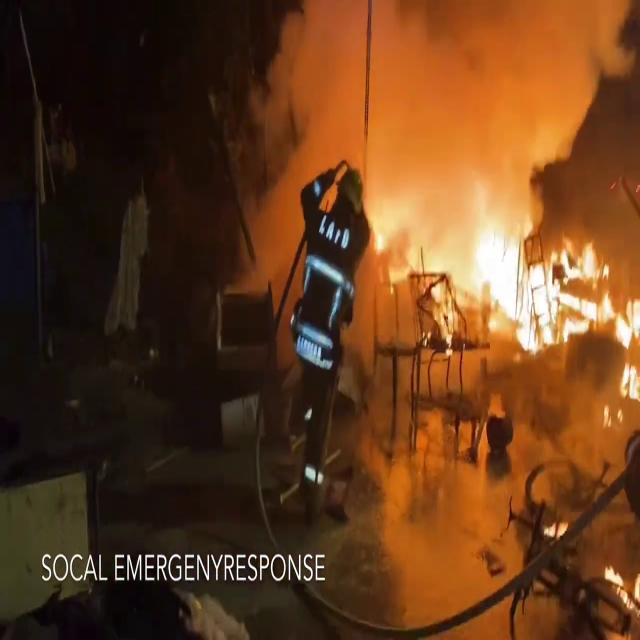Fire: (436, 192, 640, 394), (600, 553, 640, 629)
Smoke: (274, 0, 640, 217)
